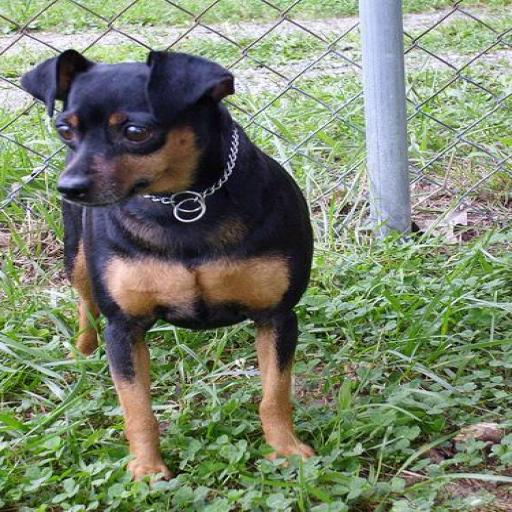dog_face: (20, 41, 250, 216)
